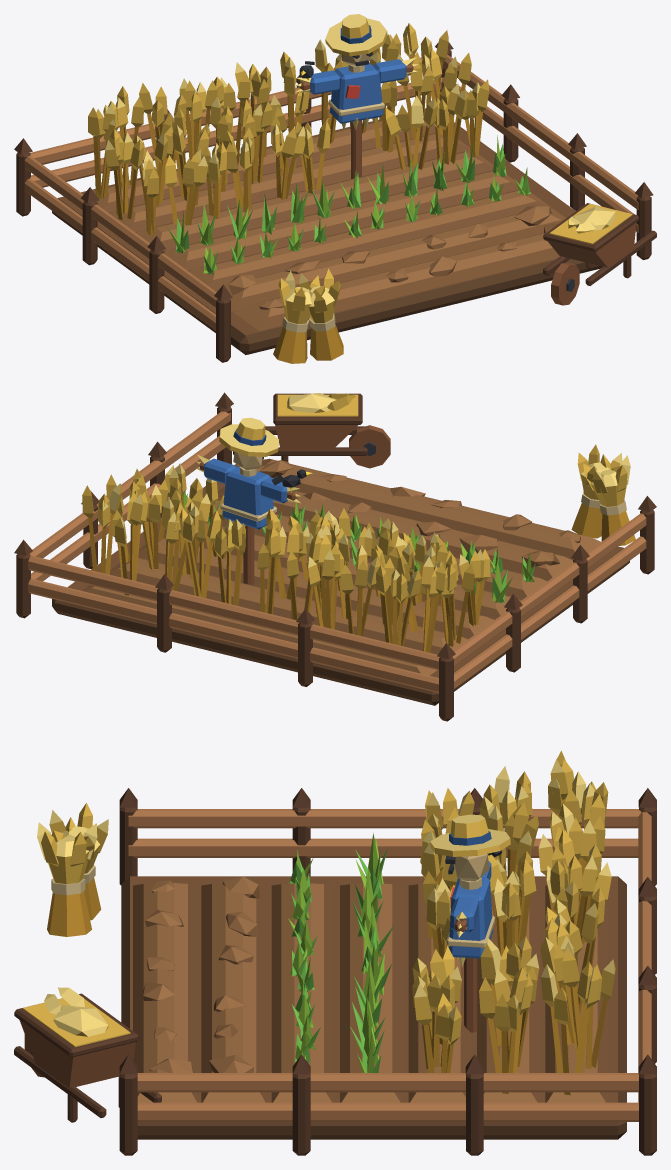
The model's file is Bld_Field.fbx.
The picture shows the model from 3 angles, top to bottom: view 1: azimuth 30°, elevation 25°; view 2: azimuth 150°, elevation 25°; view 3: azimuth 270°, elevation 25°; orthographic projection. The views are drawn at different scales.
Visible parts, largest first — view 1: Bld_Field; view 2: Bld_Field; view 3: Bld_Field.
Boxes of the visible parts, x1=… form: Bld_Field: x1=14, y1=14, x2=656, y2=363; Bld_Field: x1=14, y1=392, x2=656, y2=721; Bld_Field: x1=14, y1=750, x2=656, y2=1155.
Size of the model in its own units: 4.36 by 1.76 by 4.32.
